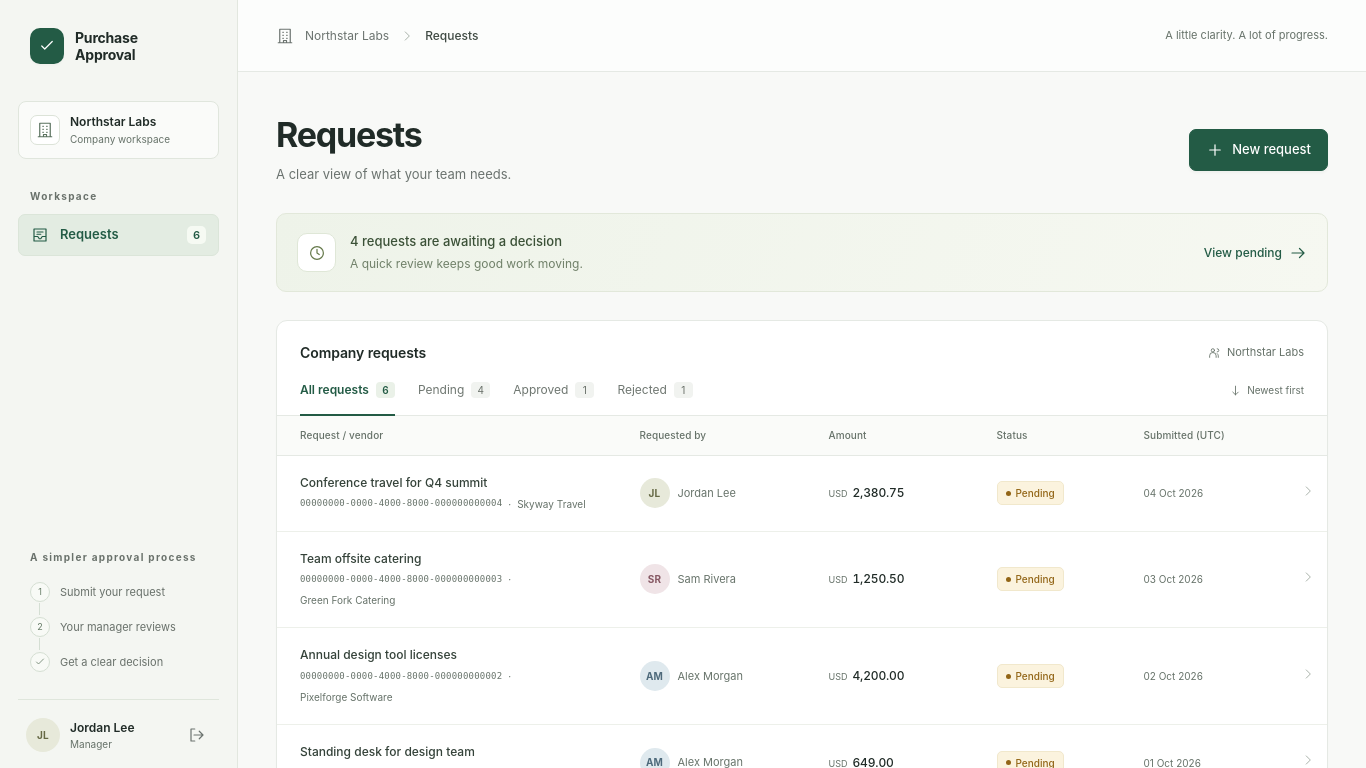
Test: status filter › filters through the tabs and keeps the filter in the URL
The width and height of the screenshot is (1366, 768).
Click the button "Approved 1".
click(554, 397)  # box top-left (513, 380), bottom-right (594, 415)
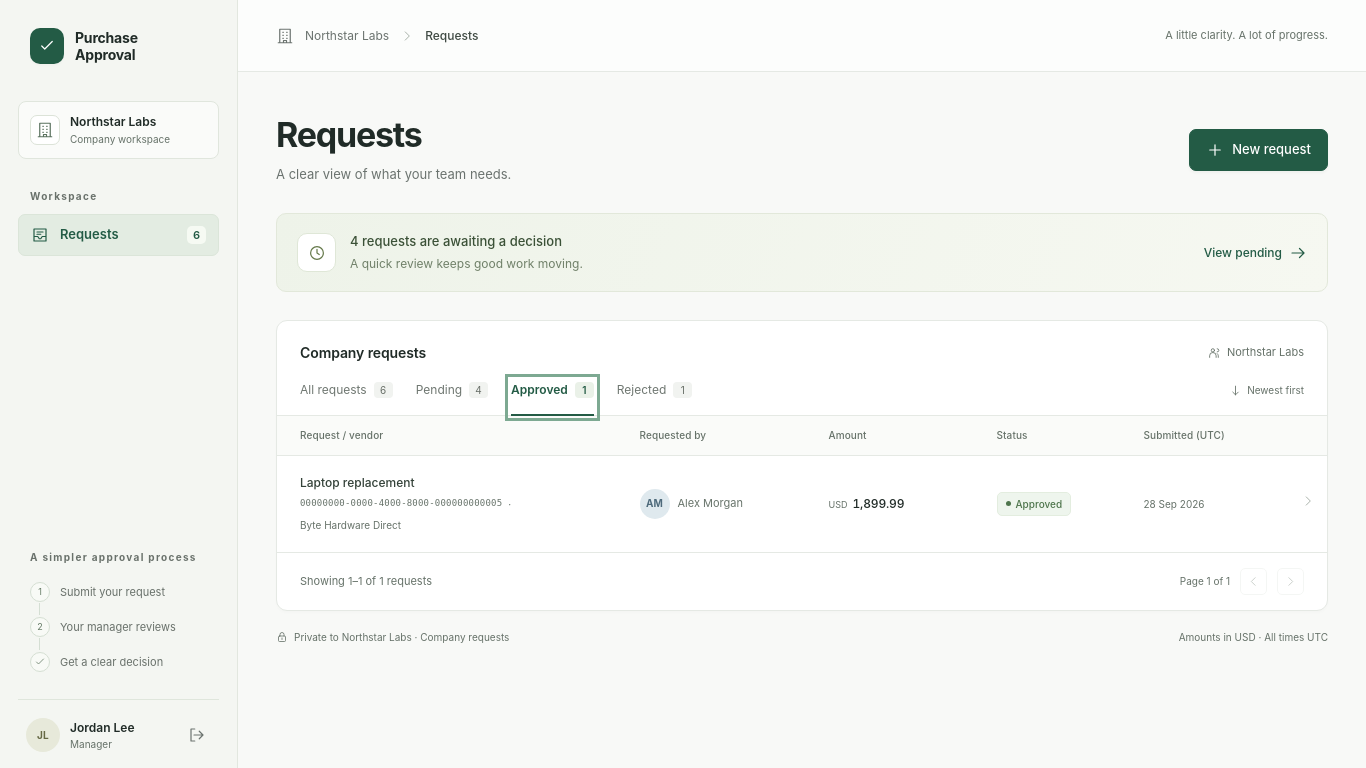
Expected: the link "Laptop replacement" is shown, top-left (300, 475), bottom-right (415, 490)
Now the link "Team offsite catering" is gone
Click the button "All requests 6".
click(346, 397)  # box top-left (300, 380), bottom-right (393, 415)
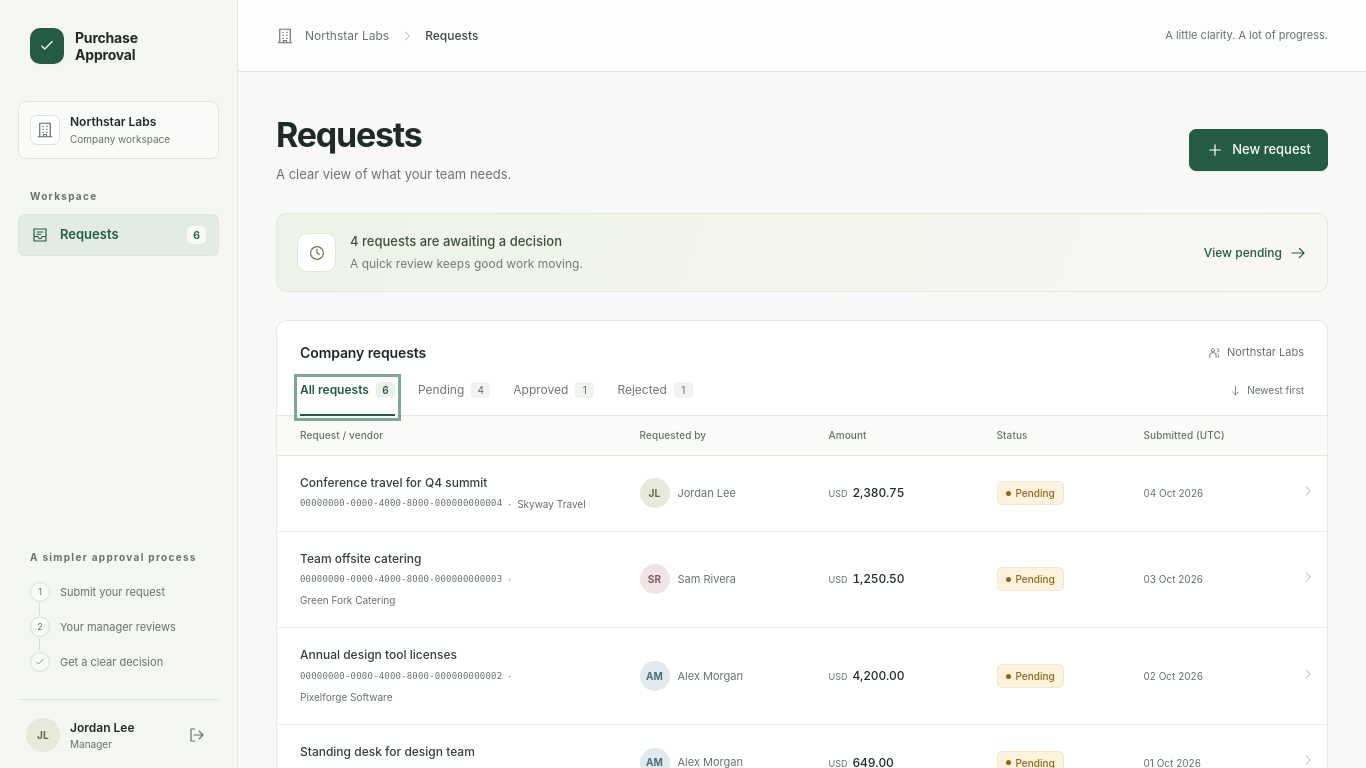
Now the link "Team offsite catering" is shown, box top-left (300, 551), bottom-right (421, 566)
